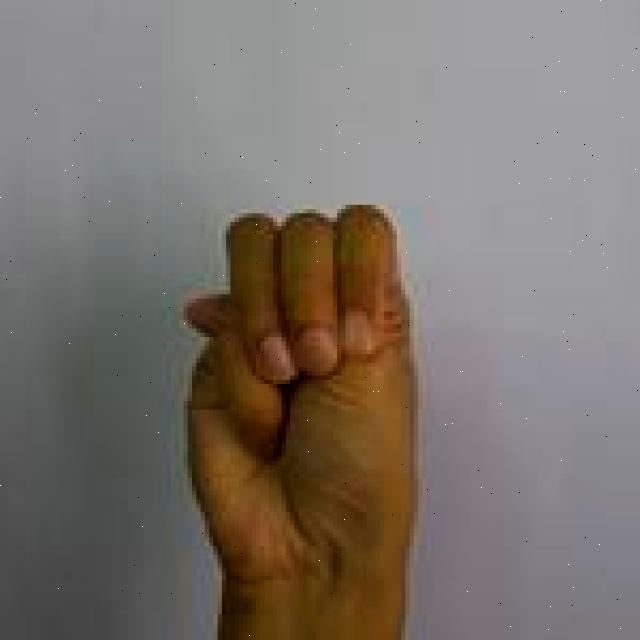M: (170, 198, 437, 640)
